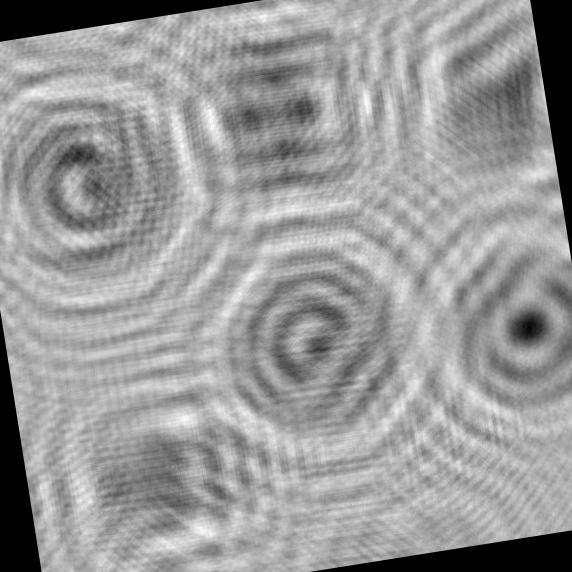D: (174, 190, 480, 506)
G: (0, 40, 243, 338)
H: (141, 0, 434, 243)
P: (386, 203, 572, 481)
T: (15, 361, 313, 572)
V: (359, 0, 563, 234)
